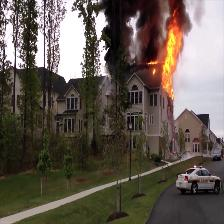fire: (160, 32, 180, 94)
smoke: (101, 4, 160, 70)
